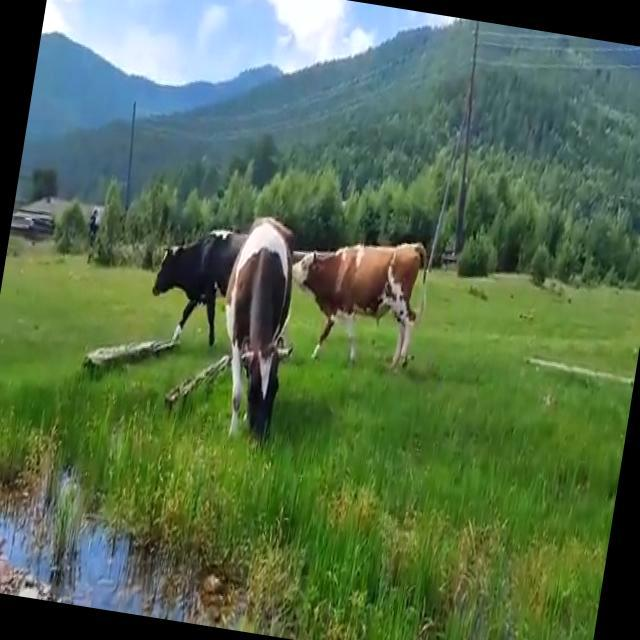COW: (154, 217, 294, 438), (294, 243, 426, 364)
